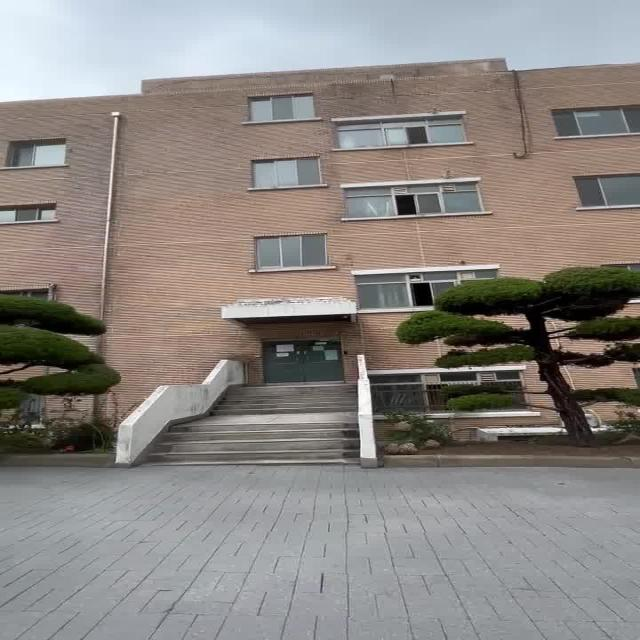building: (43, 70, 446, 453)
